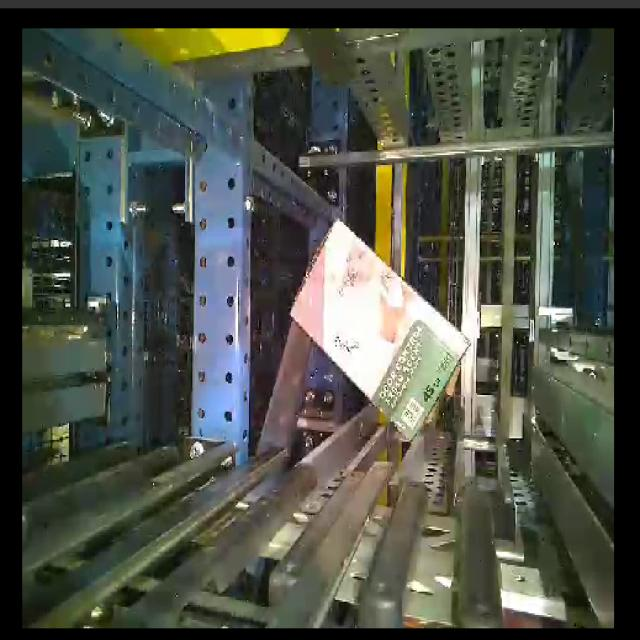box: (261, 207, 495, 445)
